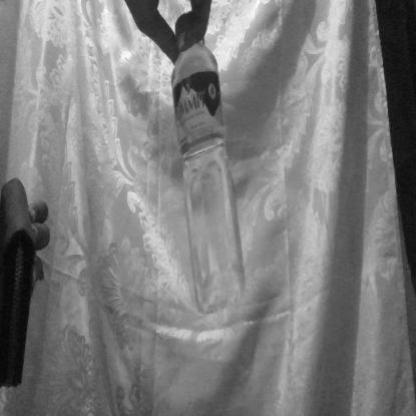Plastic Bottle: (131, 3, 273, 339)
